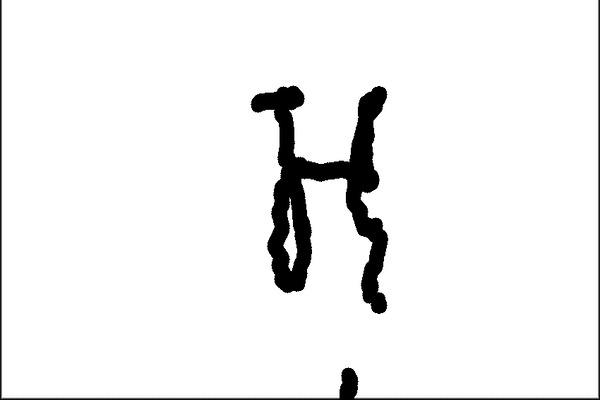H: (247, 74, 399, 319)
